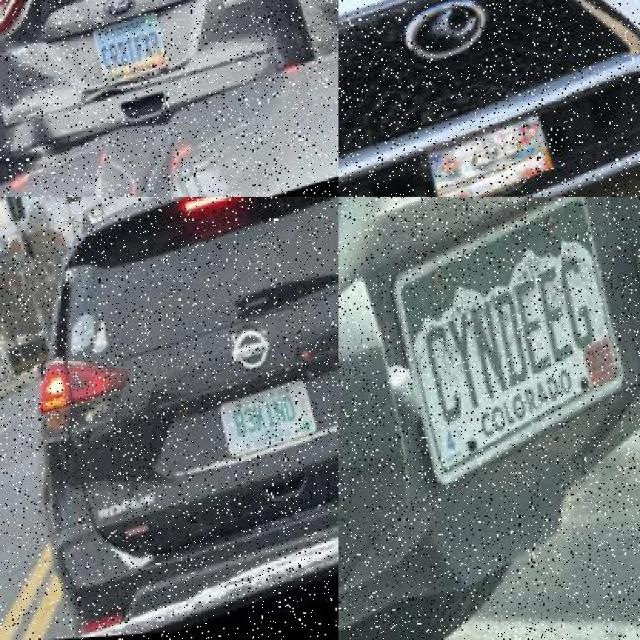licenseplate: (391, 197, 627, 492), (428, 122, 552, 197), (216, 383, 318, 464), (91, 17, 168, 91)
